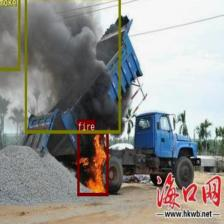fire: (77, 131, 108, 195)
smoke: (25, 0, 120, 133), (0, 0, 20, 70)
